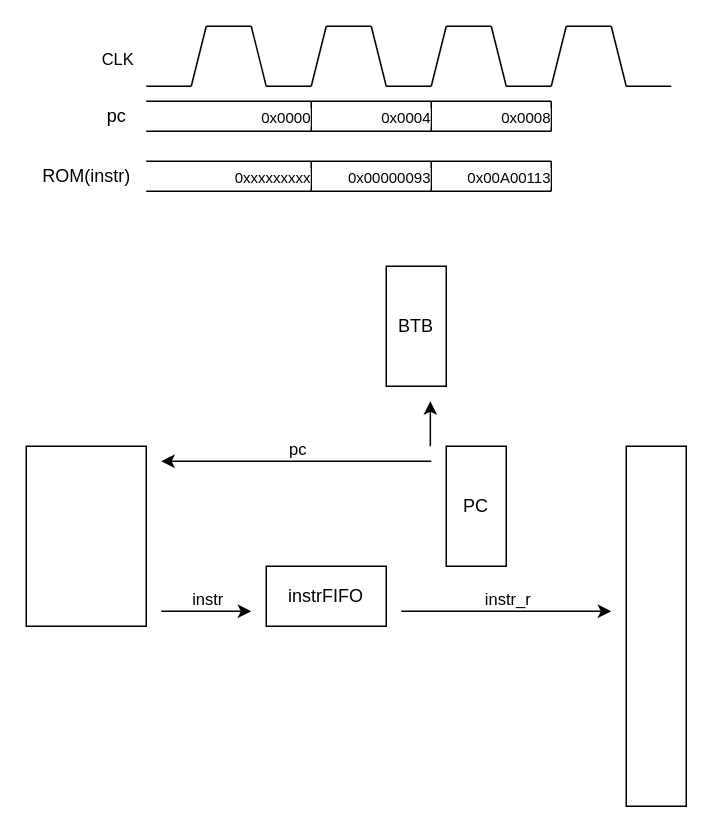
The diagram is 713 pixels wide and 833 high, and some of its shapes have lost their labels. The centre of each missing label's shape, as x and y in pixels:
"IF/ID" goes at point (655, 625).
"ROM" goes at point (85, 535).
